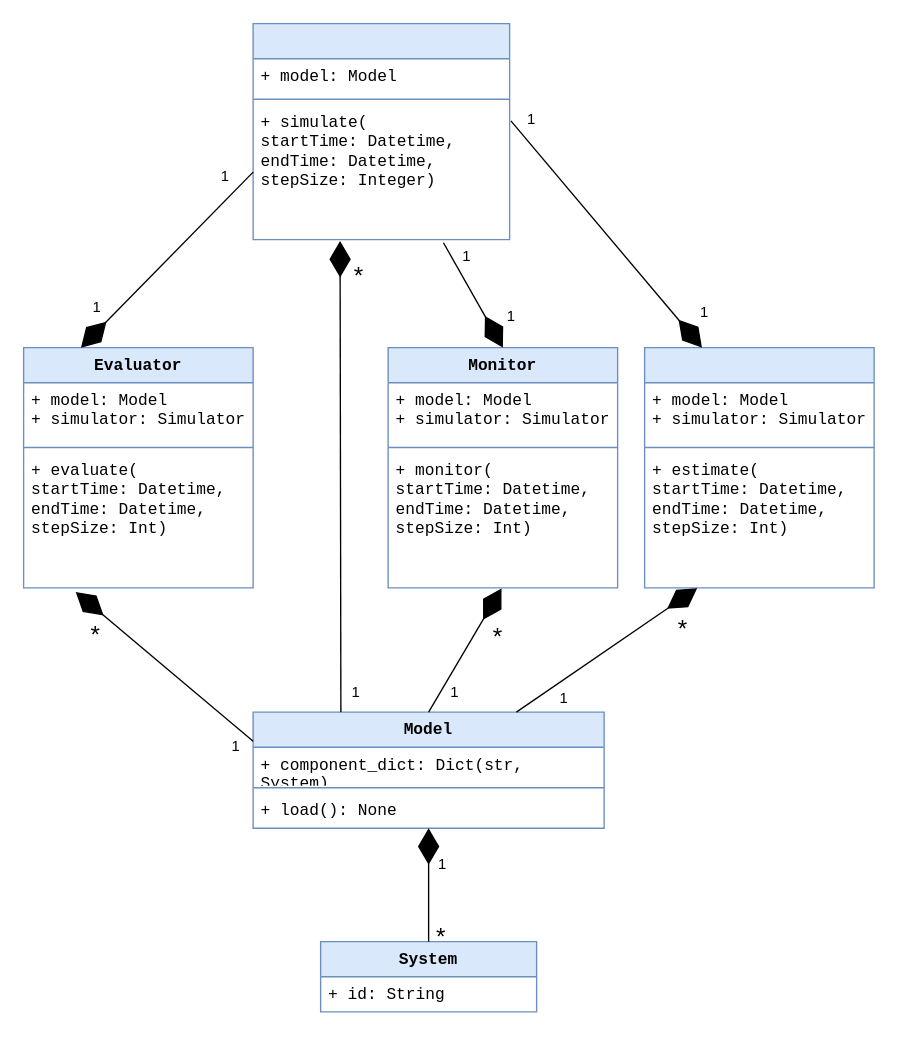
The diagram is 898 pixels wide and 1040 high, and some of its shapes have lost their labels. The shapes that lost their labels are listed below. From the top down, each one's box as (x1, y1, x2, y2) in pixels, then its label:
(252, 22, 510, 240): Simulator
(643, 346, 874, 588): Estimator
